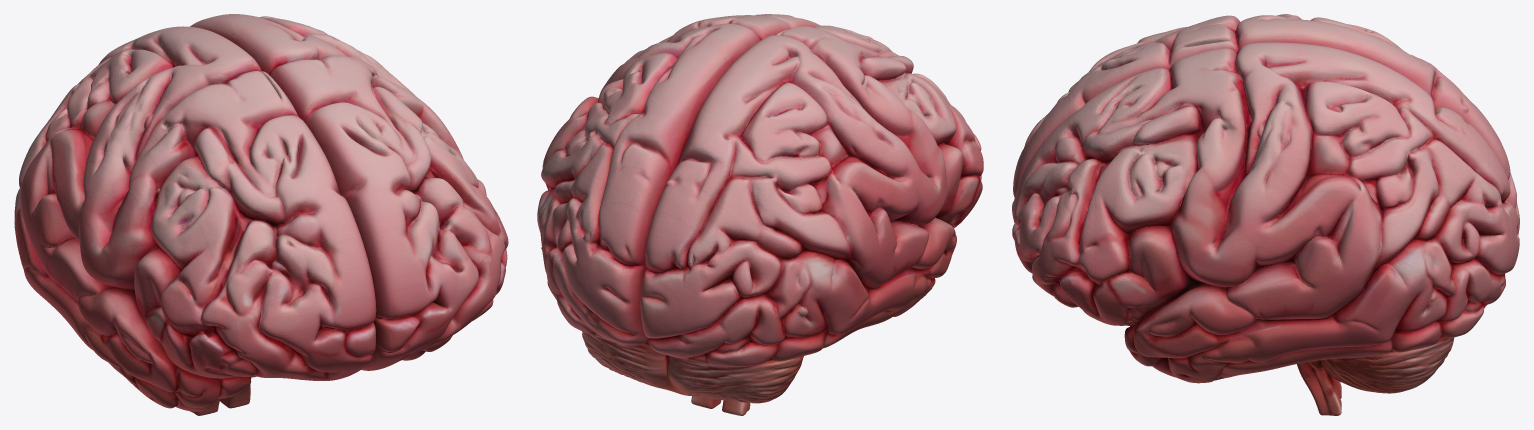
The model's file is brain.glb.
3 renders of one model, left to right at view 1: azimuth 30°, elevation 25°; view 2: azimuth 150°, elevation 25°; view 3: azimuth 270°, elevation 25°, orthographic. The views are drawn at different scales.
Visible parts, largest first — view 1: tripo_node_a88ae108-fb23-46a4-a294-7321a831de55; view 2: tripo_node_a88ae108-fb23-46a4-a294-7321a831de55; view 3: tripo_node_a88ae108-fb23-46a4-a294-7321a831de55.
Boxes of the visible parts, x1,y1,x2,y2 form: tripo_node_a88ae108-fb23-46a4-a294-7321a831de55: (14,14,508,415); tripo_node_a88ae108-fb23-46a4-a294-7321a831de55: (537,14,983,415); tripo_node_a88ae108-fb23-46a4-a294-7321a831de55: (1012,14,1519,415).
Bounding box in the file's own units: 0.7982 × 0.8009 × 0.9999.
1 material, 1 textured.
